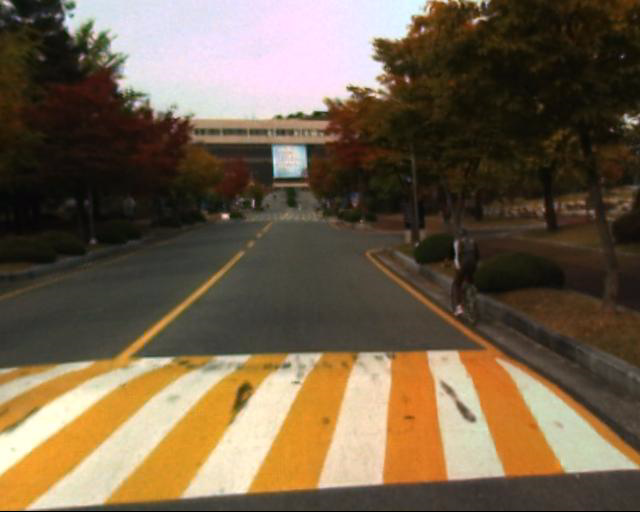person: (445, 225, 482, 319)
